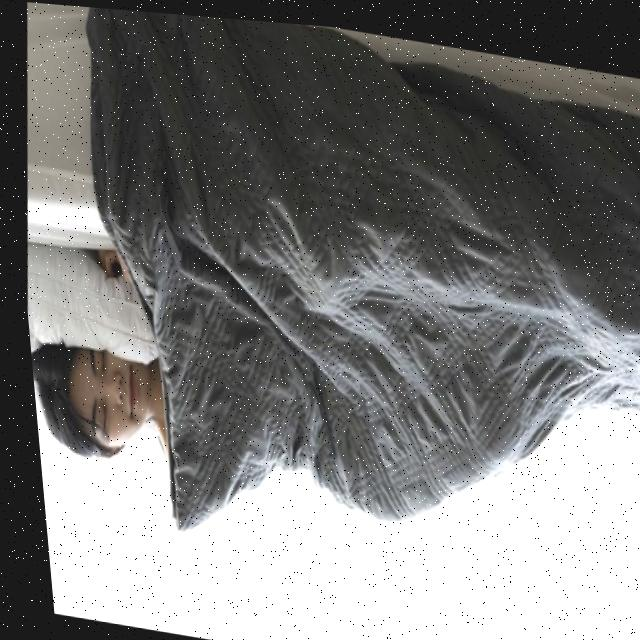sleeping-person: (2, 28, 640, 628)
